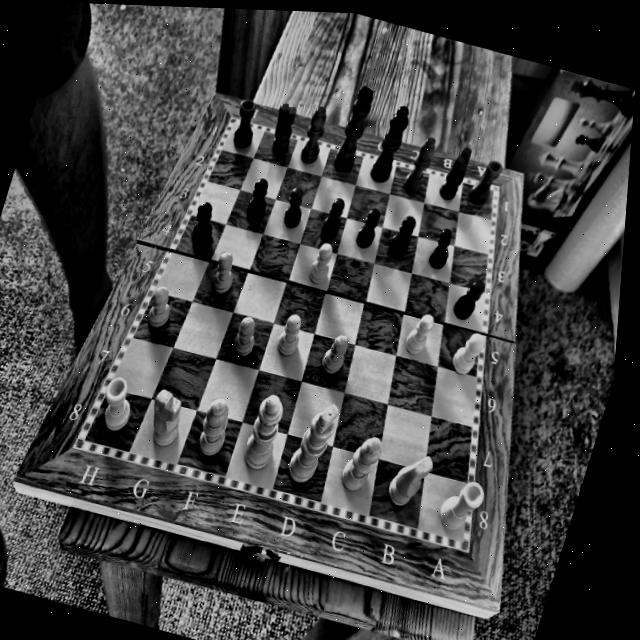black-bishop: (397, 130, 442, 202), (293, 100, 337, 171)
black-king: (326, 80, 381, 182)
black-knight: (432, 140, 478, 209), (262, 99, 306, 163)
black-pawn: (181, 196, 224, 253), (448, 269, 491, 326), (238, 172, 280, 228), (273, 181, 314, 234), (424, 223, 460, 277), (383, 211, 421, 261), (316, 193, 351, 242), (351, 203, 385, 252)
black-queen: (364, 98, 418, 192)
black-rook: (464, 152, 508, 212), (223, 96, 267, 154)
white-bishop: (188, 390, 242, 470), (334, 427, 387, 504)
white-king: (280, 396, 344, 496)
white-knight: (378, 443, 439, 521), (137, 384, 198, 458)
white-pawn: (444, 324, 491, 384), (138, 280, 183, 340), (269, 309, 312, 365), (398, 308, 442, 362), (314, 331, 356, 387), (300, 238, 342, 291), (203, 246, 244, 300), (226, 312, 267, 365)
white-queen: (237, 386, 295, 481)
white-rook: (428, 470, 491, 546), (88, 372, 145, 447)
